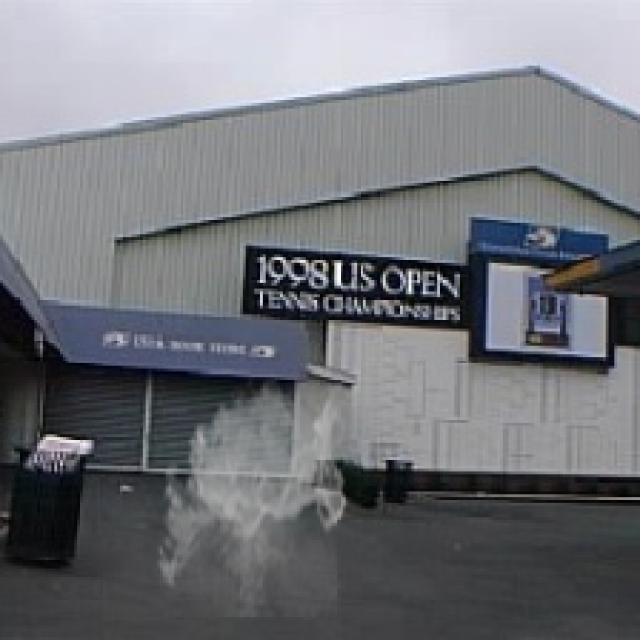smoke: (152, 374, 352, 617)
